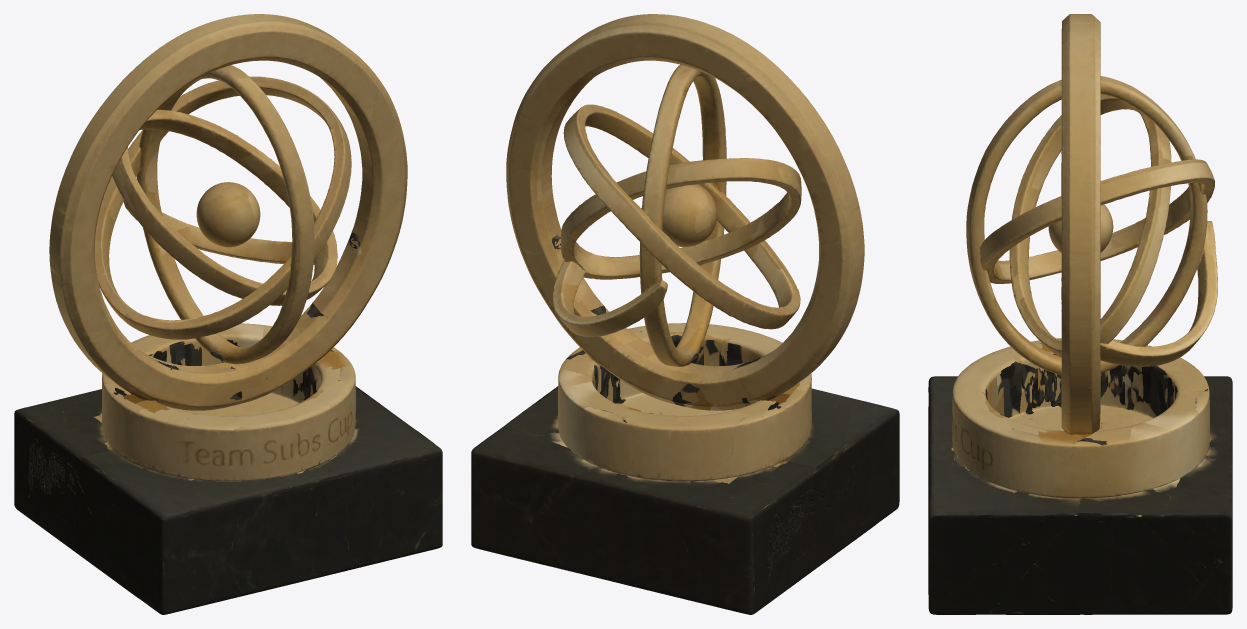
Rendered from copa_6.glb.
3 views of the same model, side by side, from view 1: azimuth 30°, elevation 25°; view 2: azimuth 150°, elevation 25°; view 3: azimuth 270°, elevation 25° (orthographic).
Visible parts, largest first — view 1: tmpoz_tgr0tobj; view 2: tmpoz_tgr0tobj; view 3: tmpoz_tgr0tobj.
Boxes of the visible parts, x1,y1,x2,y2 form: tmpoz_tgr0tobj: [14, 14, 442, 614]; tmpoz_tgr0tobj: [471, 14, 899, 614]; tmpoz_tgr0tobj: [928, 14, 1232, 614].
Size of the model in its own units: 0.7189 by 1 by 0.5359.
Materials: 1 (1 with a texture image).
